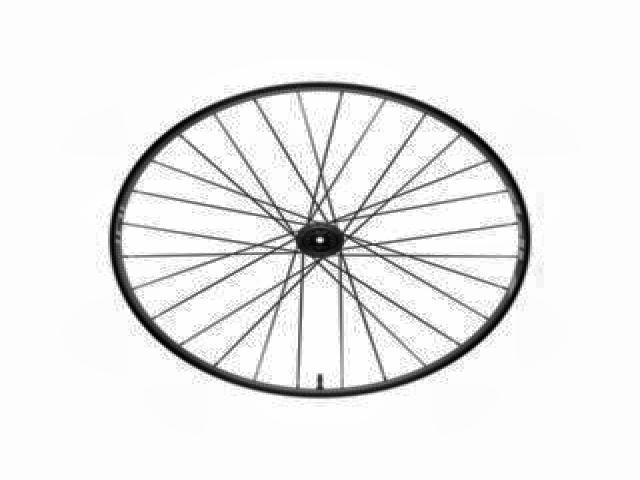wheel: (106, 78, 534, 404)
